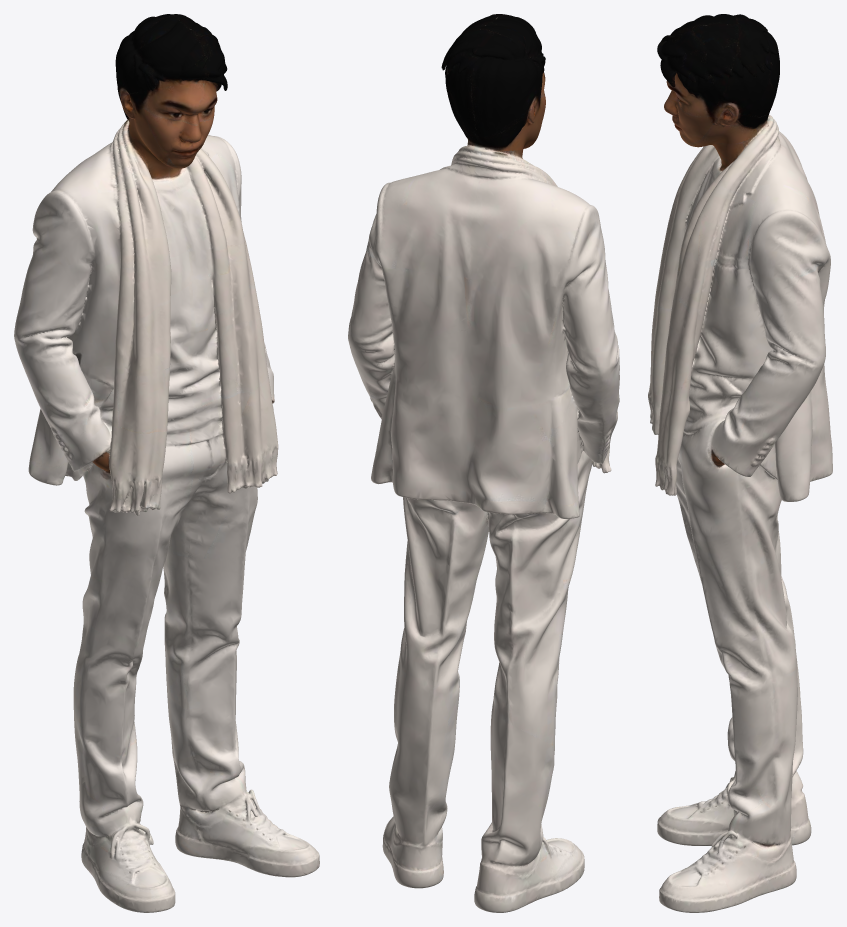
The model's file is zav.glb.
The picture shows the model from 3 angles, left to right: view 1: azimuth 30°, elevation 25°; view 2: azimuth 150°, elevation 25°; view 3: azimuth 270°, elevation 25°; orthographic projection. The views are drawn at different scales.
Parts seen in each view (by area): view 1: mesh_node; view 2: mesh_node; view 3: mesh_node.
Boxes of the visible parts, x1,y1,x2,y2 form: mesh_node: [14, 14, 319, 912]; mesh_node: [348, 14, 619, 912]; mesh_node: [648, 14, 832, 912].
Bounding box in the file's own units: 0.6075 × 1.9 × 0.3813.
1 material, 1 textured.
